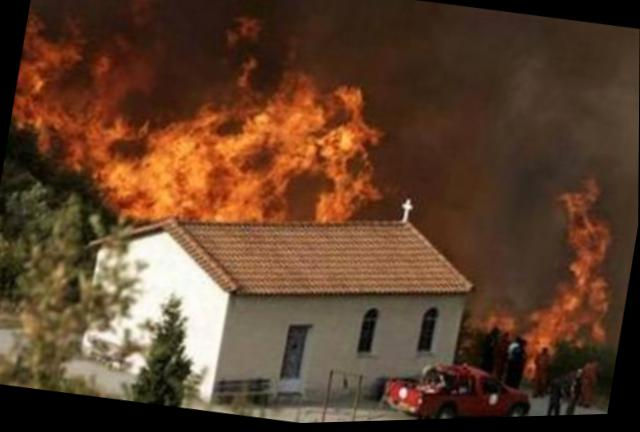fire: (6, 0, 388, 251), (508, 179, 637, 382)
